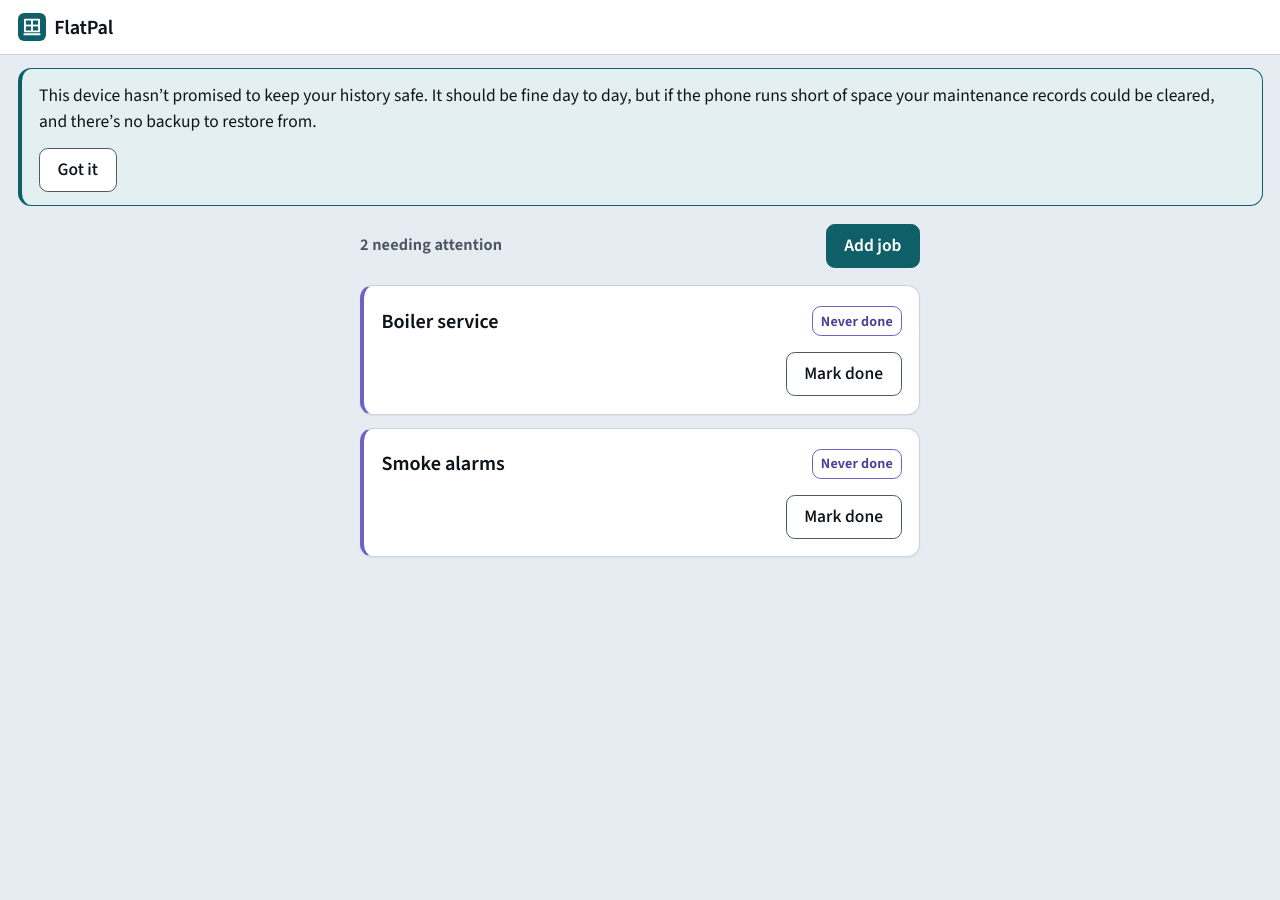
Test: undoing a tick-off › names the job it would undo, so a mis-tap is recoverable knowingly
The image size is (1280, 900).
Expected: the button "Smoke alarms" is shown, [382,442,505,486]
Step 1. Click the 2nd button "Mark done" → {"x": 844, "y": 517}, box [786,495,902,539]
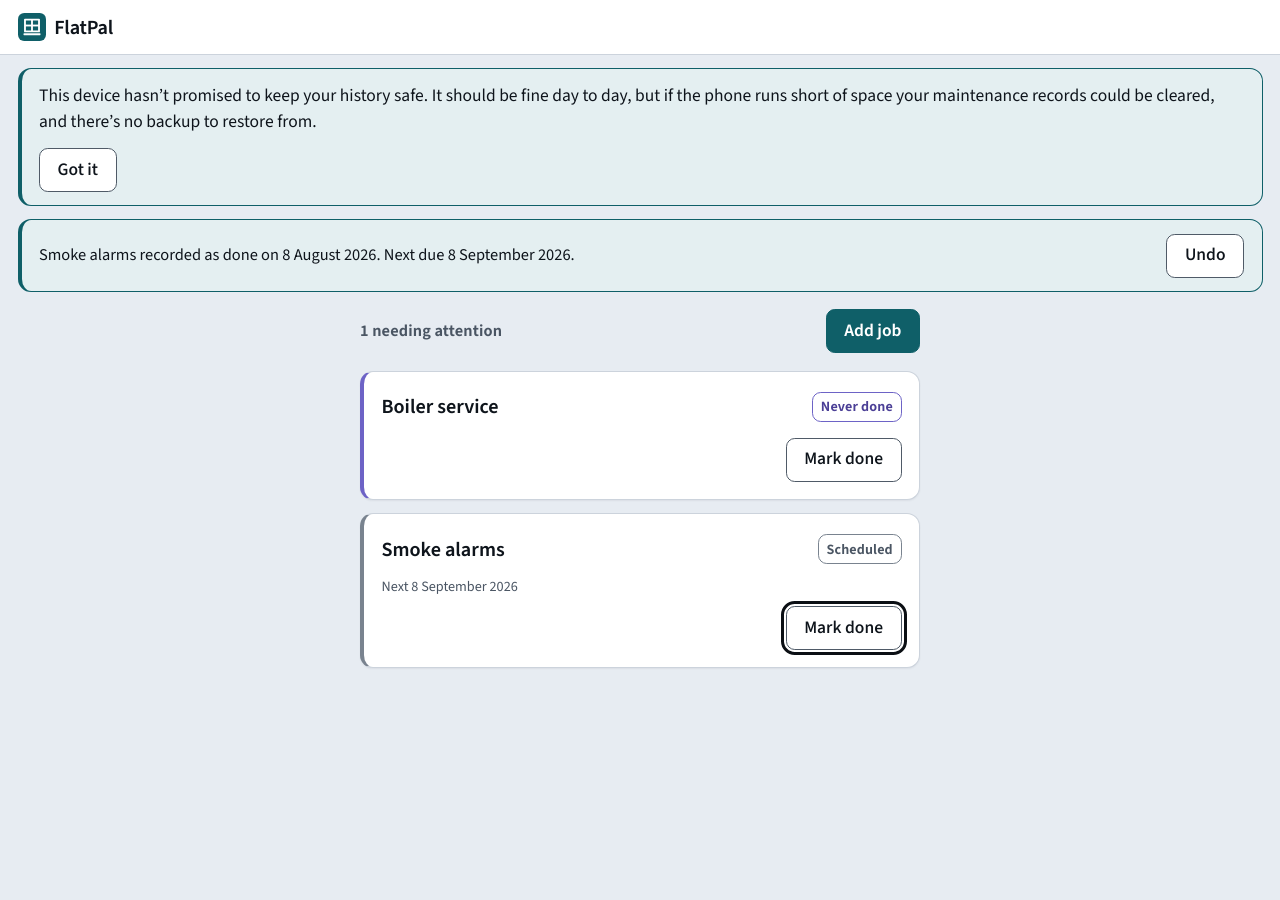
Expected: the button "Undo" is shown, [1166,234,1244,278]
